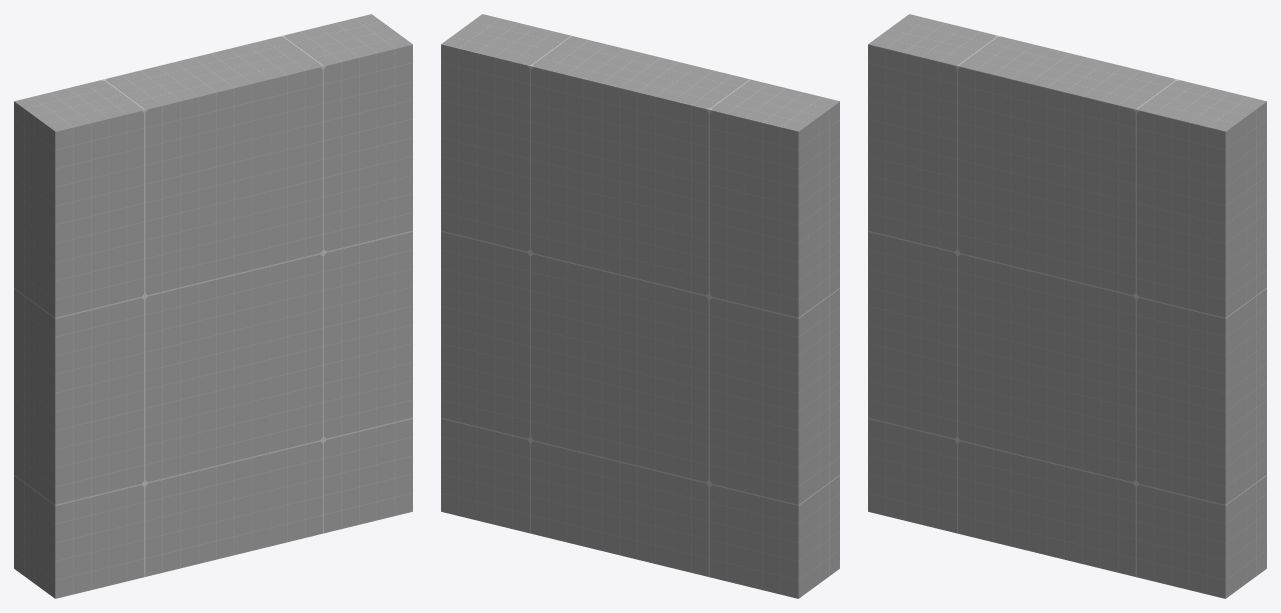
File: Wall_1x2_Thick.001.fbx
3 views of the same model, side by side, from view 1: azimuth 30°, elevation 25°; view 2: azimuth 150°, elevation 25°; view 3: azimuth 330°, elevation 25° (orthographic).
Parts seen in each view (by area): view 1: Wall_1x2_Thick.001; view 2: Wall_1x2_Thick.001; view 3: Wall_1x2_Thick.001.
Boxes of the visible parts, x1=… form: Wall_1x2_Thick.001: x1=14, y1=14, x2=412, y2=598; Wall_1x2_Thick.001: x1=441, y1=14, x2=839, y2=598; Wall_1x2_Thick.001: x1=868, y1=14, x2=1266, y2=598.
Size of the model in its own units: 200 by 250 by 40.
